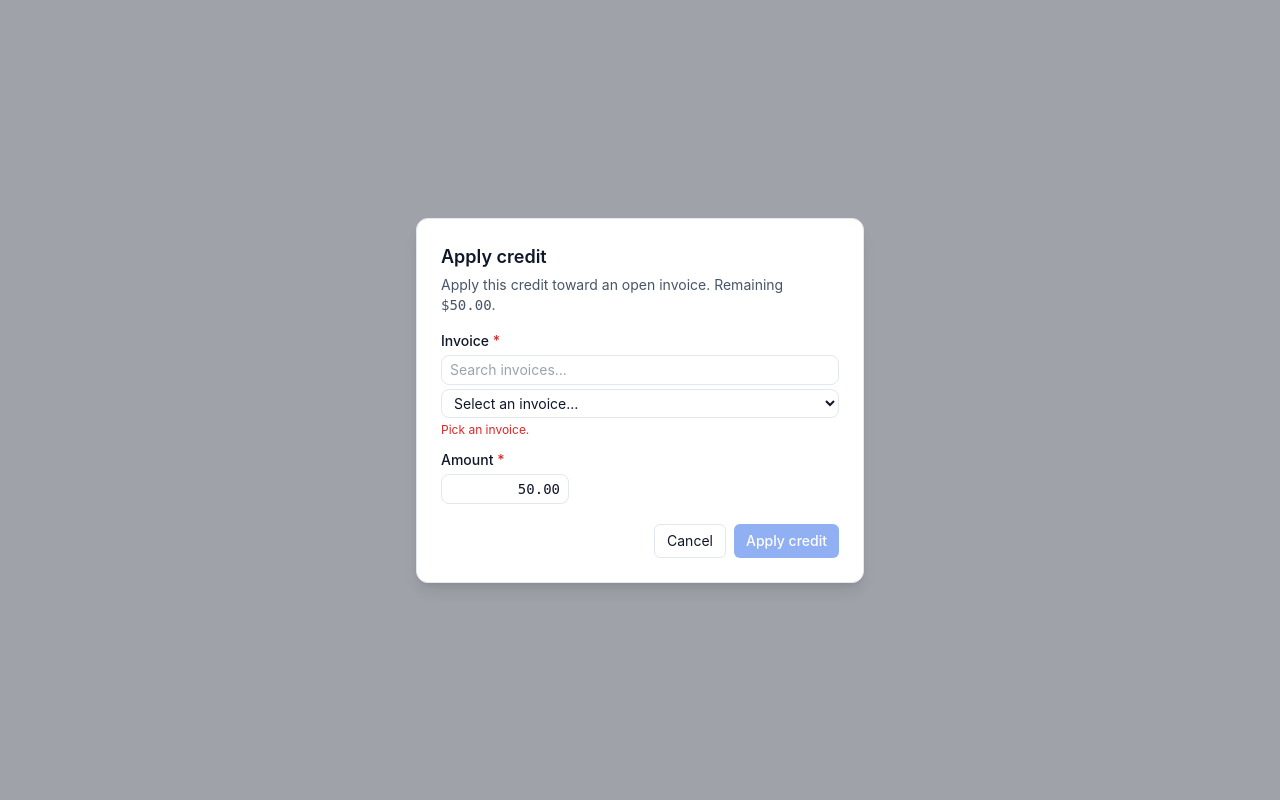
it: ApplyCreditDialog › rejects amount > remaining
// Pick the invoice.
Select "INV-A — Acme Co (bal $2,000.00)" in the dropdown with test id "apply-invoice-picker": (640,403) [441,388,839,418]
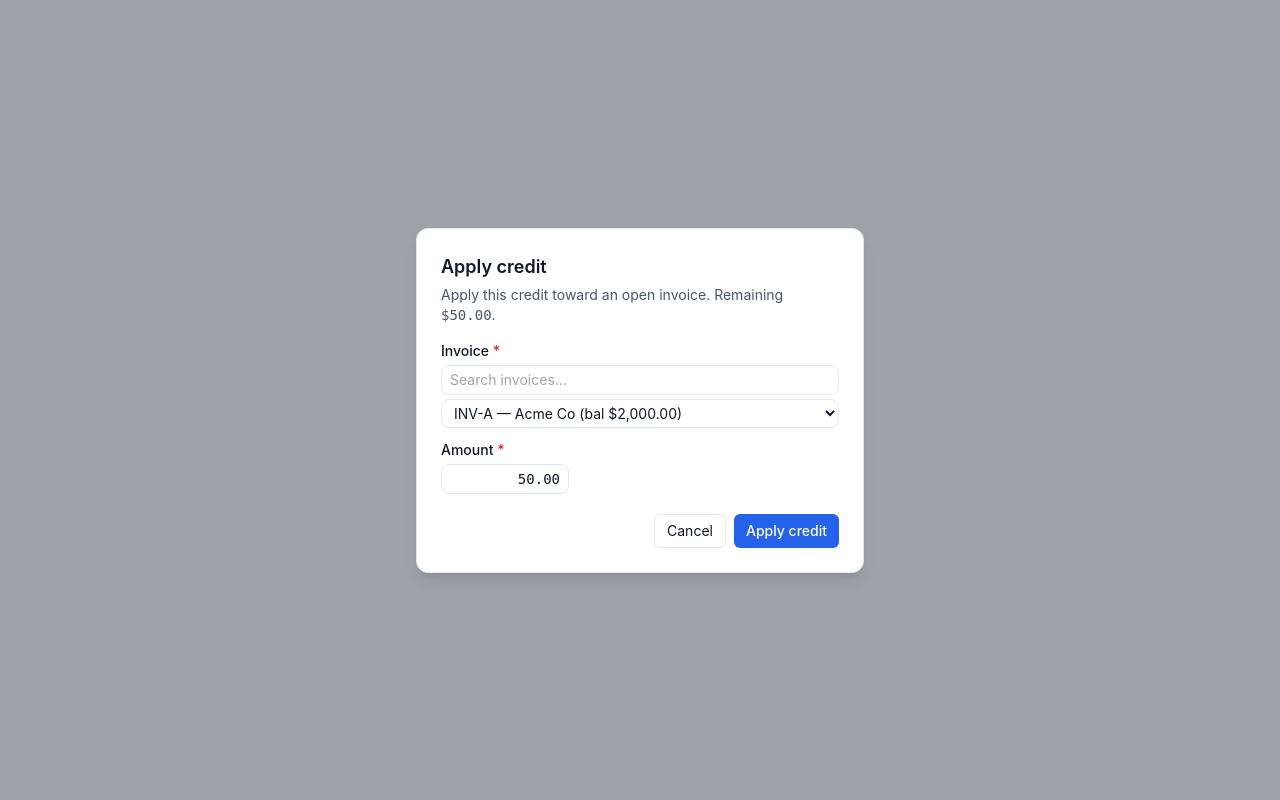
// Bump amount above remaining.
Replace the text in the field named "Apply amount" with "500.00": (505,478) [441,464,569,494]
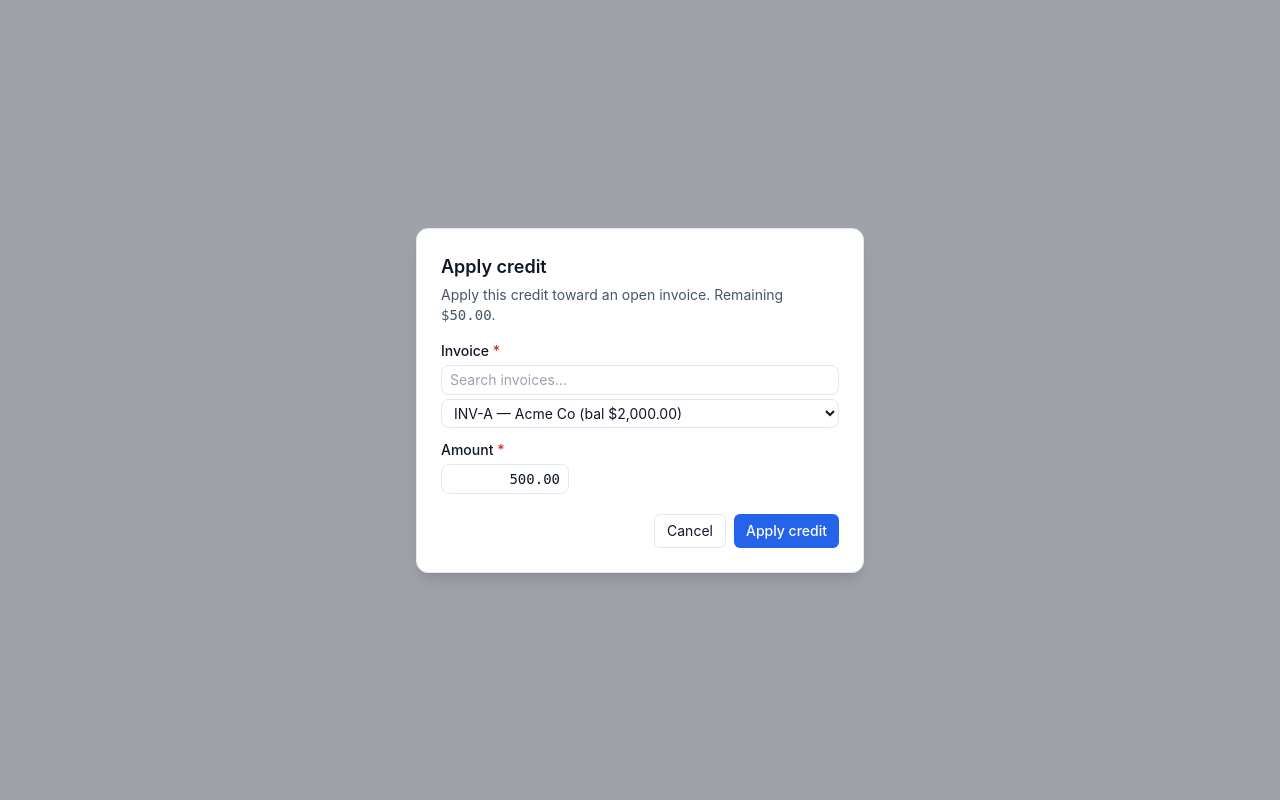
Leave the field named "Apply amount", box [441,464,569,494]
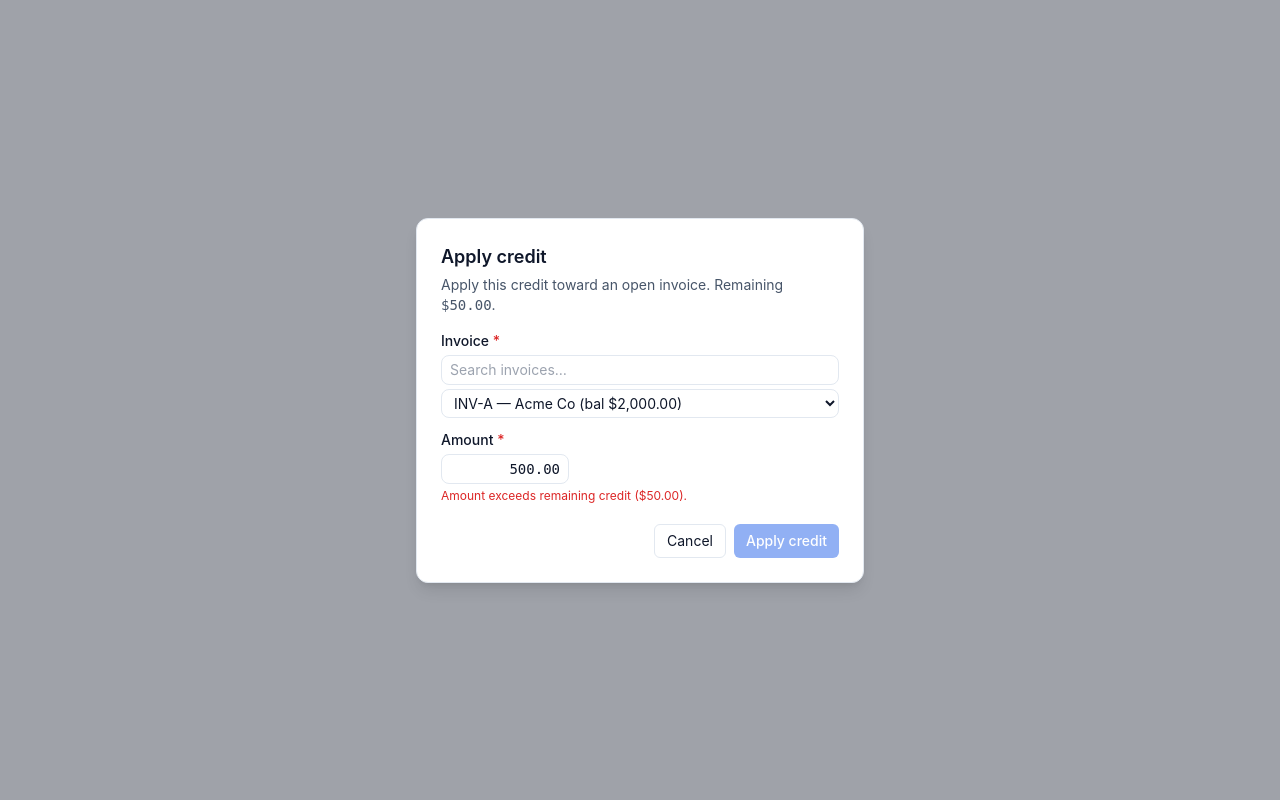
Now the text "Amount exceeds remaining credit ($50.00)." is shown, box [441,488,687,502]
